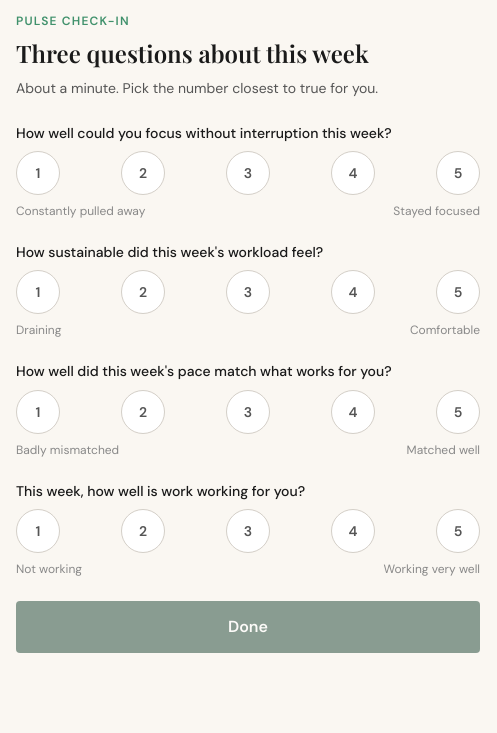
PulseCheckinPage › refetches next-checkin on a 422 invalid_checkin and says the questions were refreshed
Check: the text "How well could you focus without interruption this week?" is shown, box [16,124,392,142]
Click the 1st radio button labelled "4" at (353, 173), box [331,151,375,195]
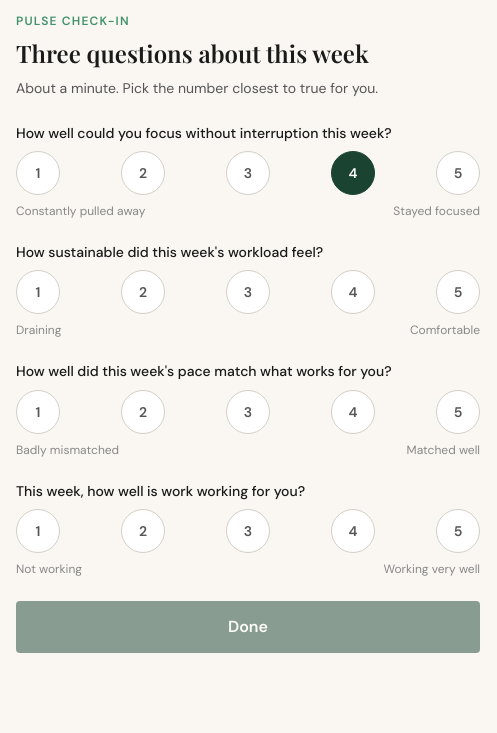
Click the 2nd radio button labelled "4" at (353, 292), box [331,270,375,314]
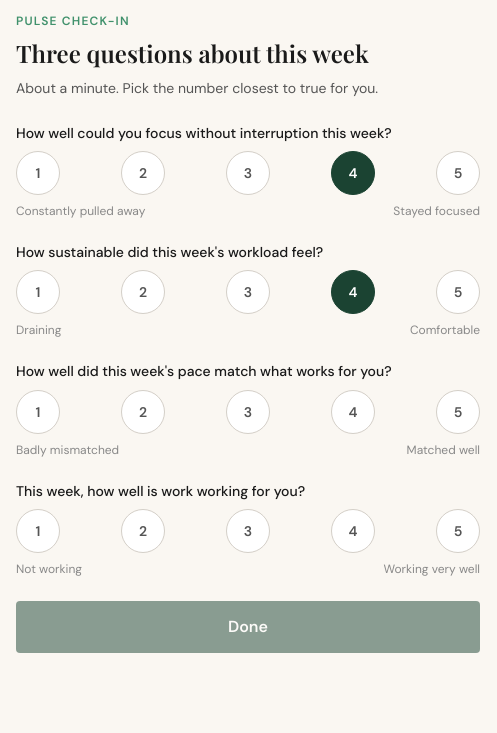
Click the 3rd radio button labelled "4" at (353, 412), box [331,390,375,434]
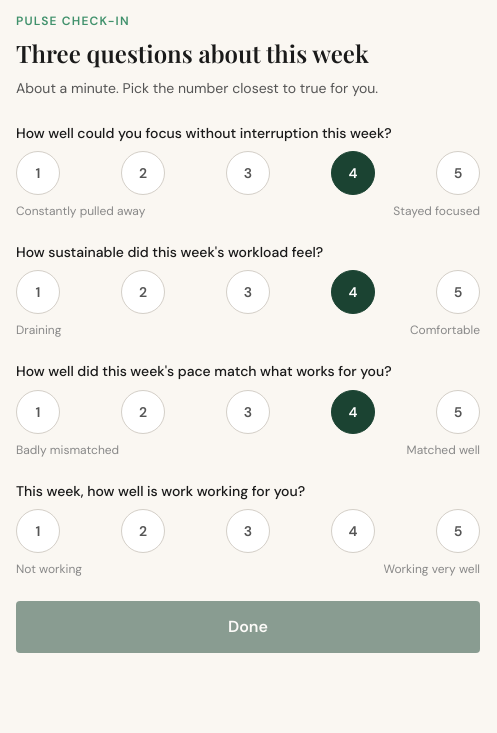
Click the 4th radio button labelled "4" at (353, 531), box [331,509,375,553]
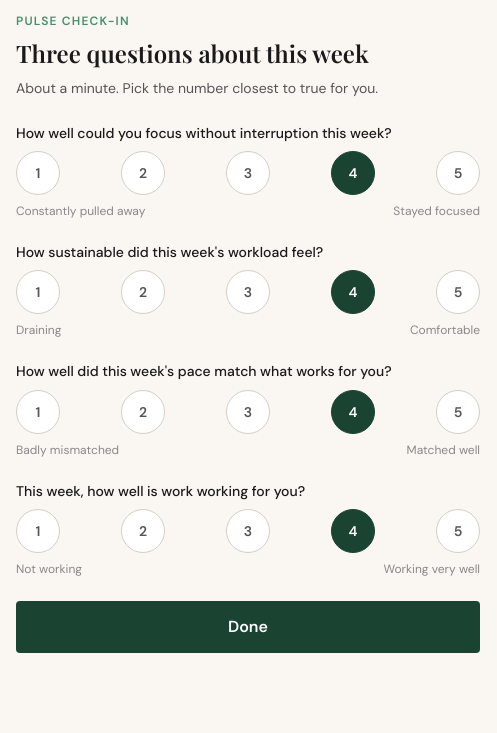
Click the button "Done" at (248, 627), box [16,601,480,653]
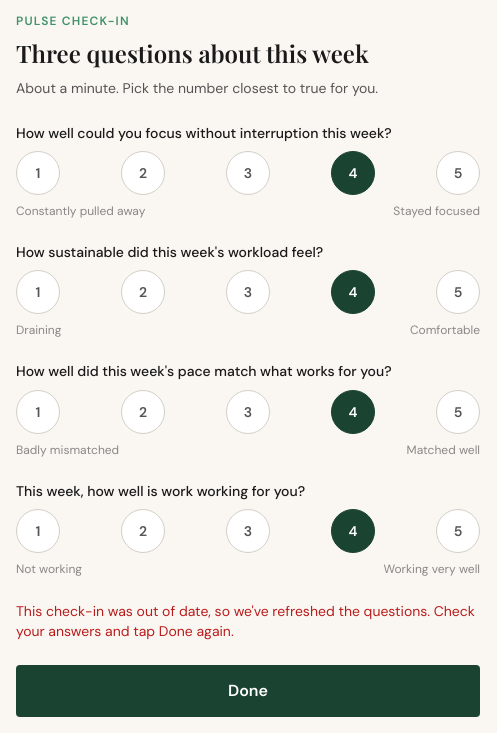
Check: the message shows "refreshed the questions", box [16,602,475,640]
